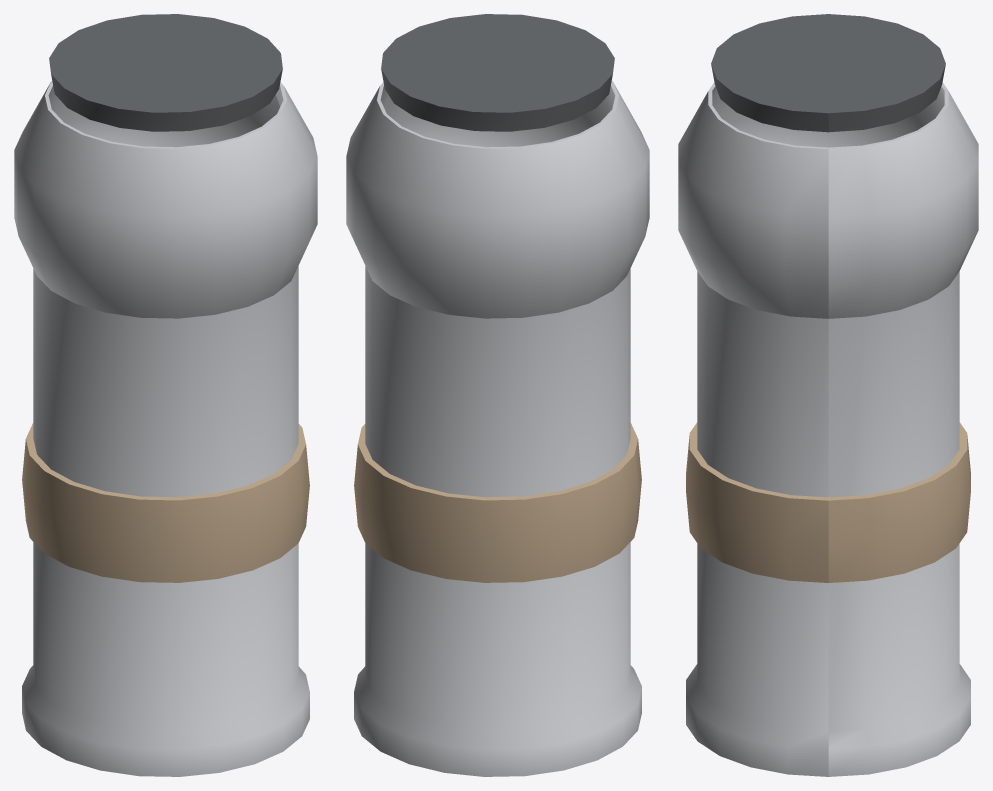
Rendered from SM_Retail_25385_ConcourseLitterBin.fbx.
3 renders of one model, left to right at view 1: azimuth 30°, elevation 25°; view 2: azimuth 150°, elevation 25°; view 3: azimuth 270°, elevation 25°, orthographic.
Parts seen in each view (by area): view 1: SM_Retail_25385_ConcourseLitterBin; view 2: SM_Retail_25385_ConcourseLitterBin; view 3: SM_Retail_25385_ConcourseLitterBin.
Part boxes in pixels (<box>): SM_Retail_25385_ConcourseLitterBin: <box>14,14,317,776</box>; SM_Retail_25385_ConcourseLitterBin: <box>346,14,649,776</box>; SM_Retail_25385_ConcourseLitterBin: <box>678,14,978,776</box>.
Size of the model in its own units: 39.99 by 39.59 by 95.
